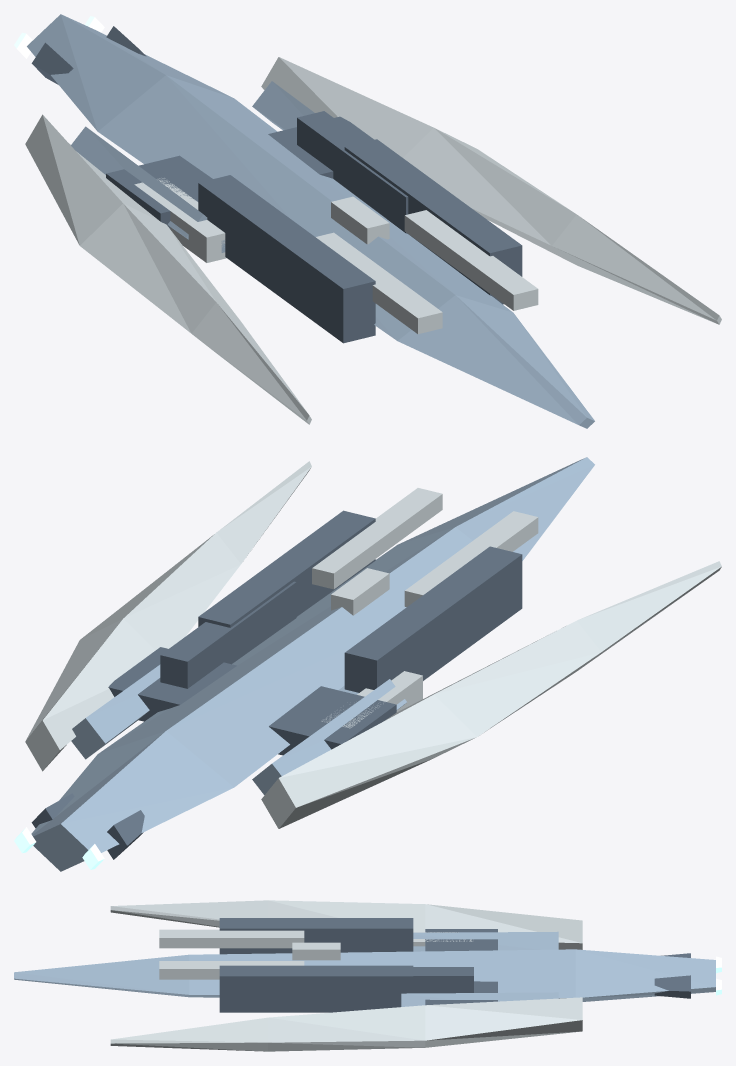
3 views of the same model, one above another, from view 1: azimuth 30°, elevation 25°; view 2: azimuth 150°, elevation 25°; view 3: azimuth 270°, elevation 25° (orthographic). The views are drawn at different scales.
Size of the model in its own units: 5.54 by 1.08 by 12.29.
